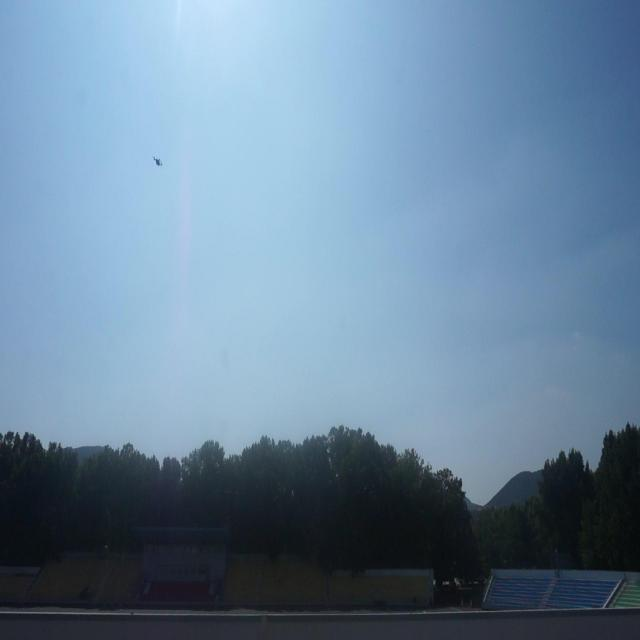UAV: (152, 156, 163, 166)
